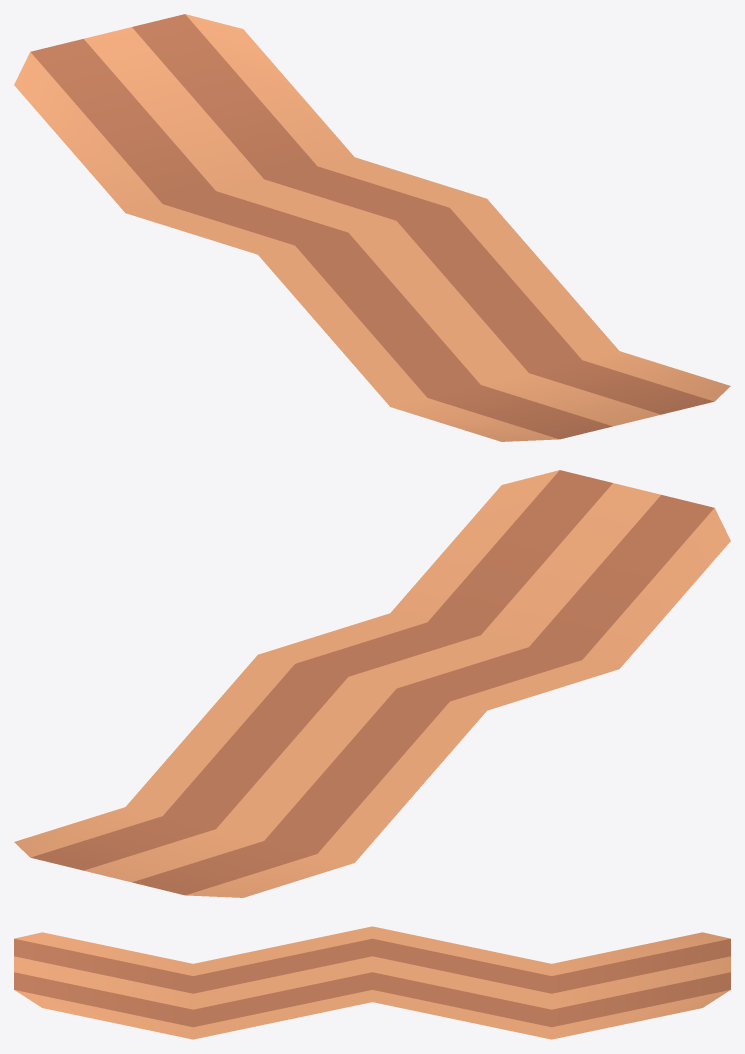
The model's file is Bacon.glb.
The picture shows the model from 3 angles, top to bottom: view 1: azimuth 30°, elevation 25°; view 2: azimuth 150°, elevation 25°; view 3: azimuth 270°, elevation 25°; orthographic projection. The views are drawn at different scales.
Parts seen in each view (by area): view 1: bacon; view 2: bacon; view 3: bacon.
Boxes of the visible parts, x1,y1,x2,y2 form: bacon: [14, 14, 730, 441]; bacon: [14, 470, 730, 897]; bacon: [14, 926, 730, 1039].
Bounding box in the file's own units: 0.13 × 0.03 × 0.52.
